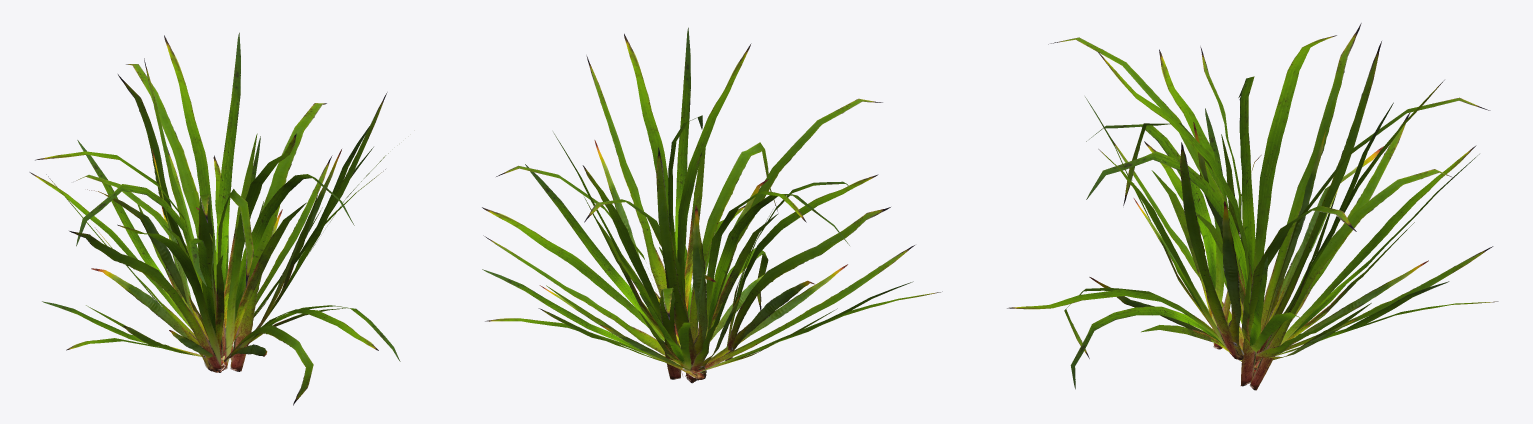
File: KangarooPawGrass.fbx
3 renders of one model, left to right at view 1: azimuth 30°, elevation 25°; view 2: azimuth 150°, elevation 25°; view 3: azimuth 270°, elevation 25°, orthographic. The views are drawn at different scales.
Visible parts, largest first — view 1: RedKangarooPawLeaves_LOD0; view 2: RedKangarooPawLeaves_LOD0; view 3: RedKangarooPawLeaves_LOD0.
Part boxes in pixels (x1,y1,x2,y2): RedKangarooPawLeaves_LOD0: [29, 32, 400, 405]; RedKangarooPawLeaves_LOD0: [482, 27, 942, 383]; RedKangarooPawLeaves_LOD0: [1007, 23, 1498, 390].
Size of what is drawn, in the model's own units: 84.05 by 62.49 by 79.18.
